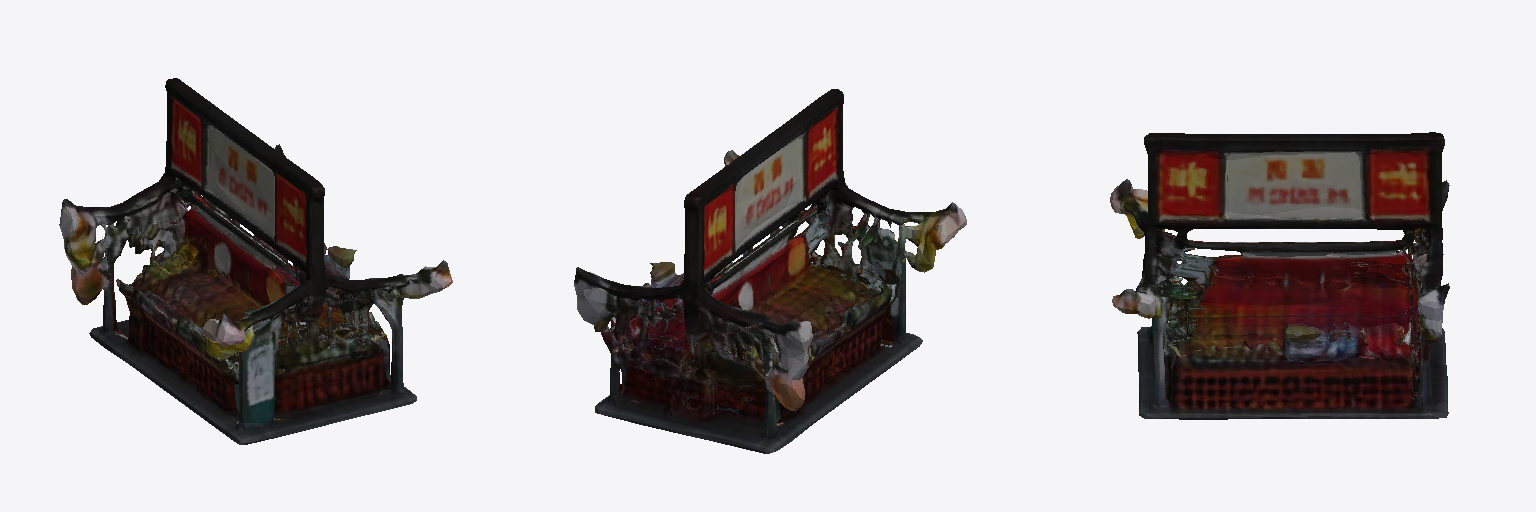
3 views of the same model, side by side, from view 1: azimuth 30°, elevation 25°; view 2: azimuth 150°, elevation 25°; view 3: azimuth 270°, elevation 25° (orthographic).
Visible parts, largest first — view 1: mesh; view 2: mesh; view 3: mesh.
Boxes of the visible parts, x1=… form: mesh: x1=59, y1=78, x2=452, y2=444; mesh: x1=574, y1=89, x2=966, y2=453; mesh: x1=1110, y1=132, x2=1449, y2=419.
Size of the model in its own units: 0.8007 by 0.7744 by 1.
1 materials, 1 textured.